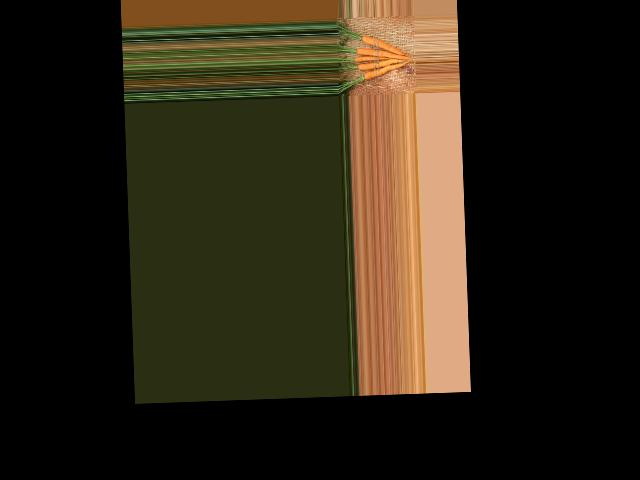carrot: (363, 62, 405, 80)
